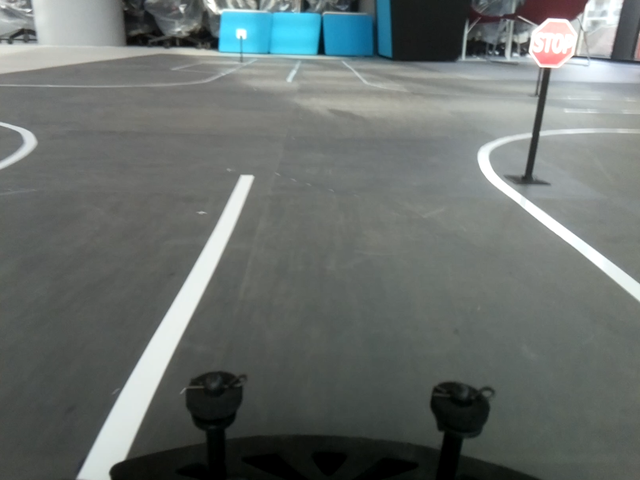stop: (528, 18, 578, 68)
